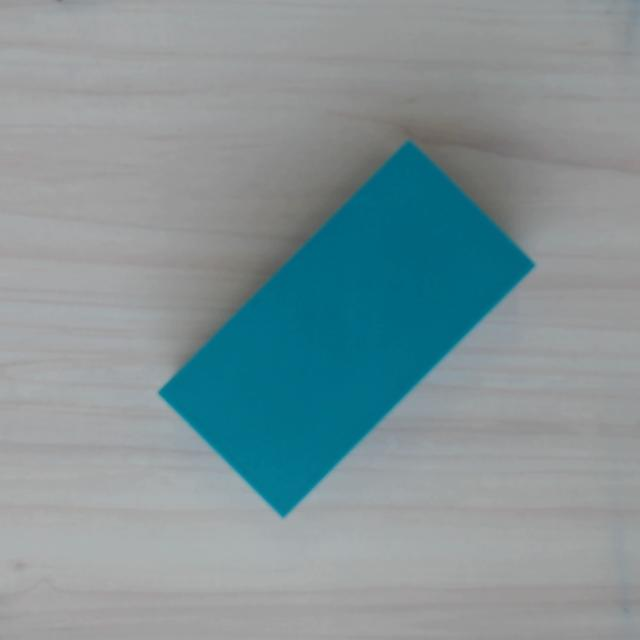Balok-Hijau-1005025: (156, 139, 536, 518)
